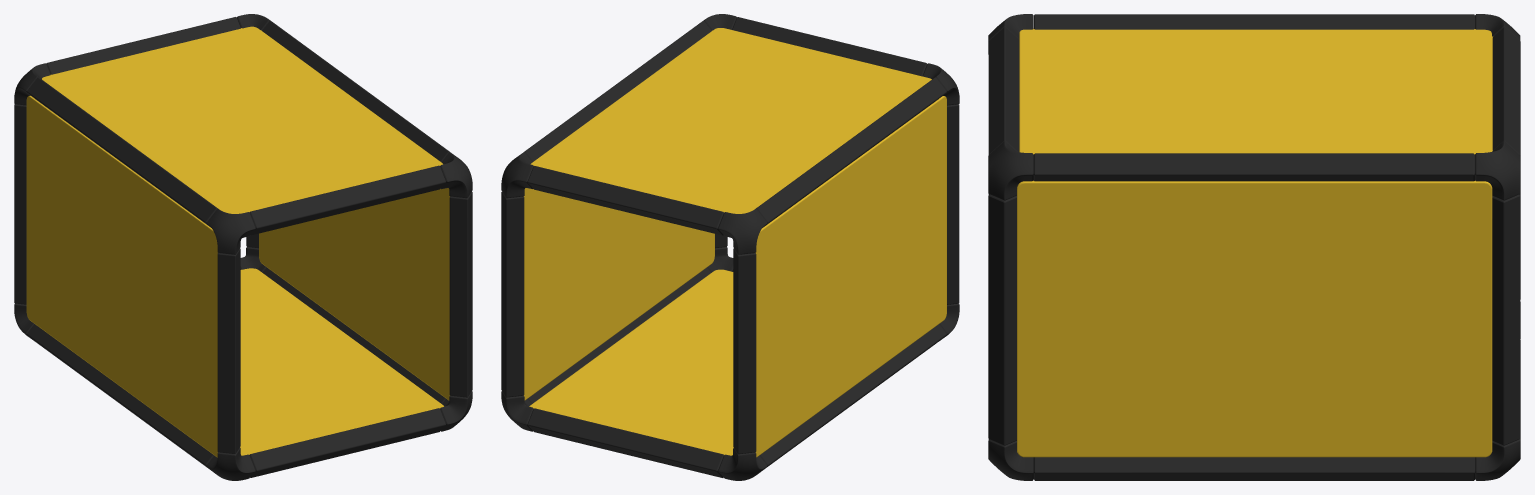
The picture shows the model from 3 angles, left to right: view 1: azimuth 30°, elevation 25°; view 2: azimuth 150°, elevation 25°; view 3: azimuth 270°, elevation 25°; orthographic projection. The views are drawn at different scales.
Visible parts, largest first — view 1: 229x374x229; view 2: 229x374x229; view 3: 229x374x229.
Boxes of the visible parts, x1,y1,x2,y2 form: 229x374x229: [14, 14, 472, 480]; 229x374x229: [501, 14, 959, 480]; 229x374x229: [988, 14, 1520, 480].
Bounding box in the file's own units: 0.3067 × 0.3066 × 0.4513.
